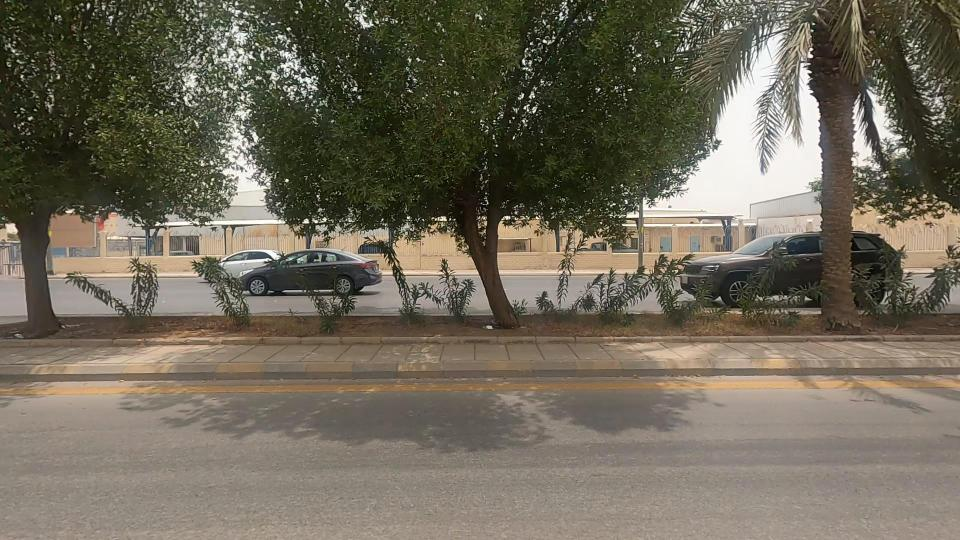GARBAGE: (436, 307, 520, 346)
